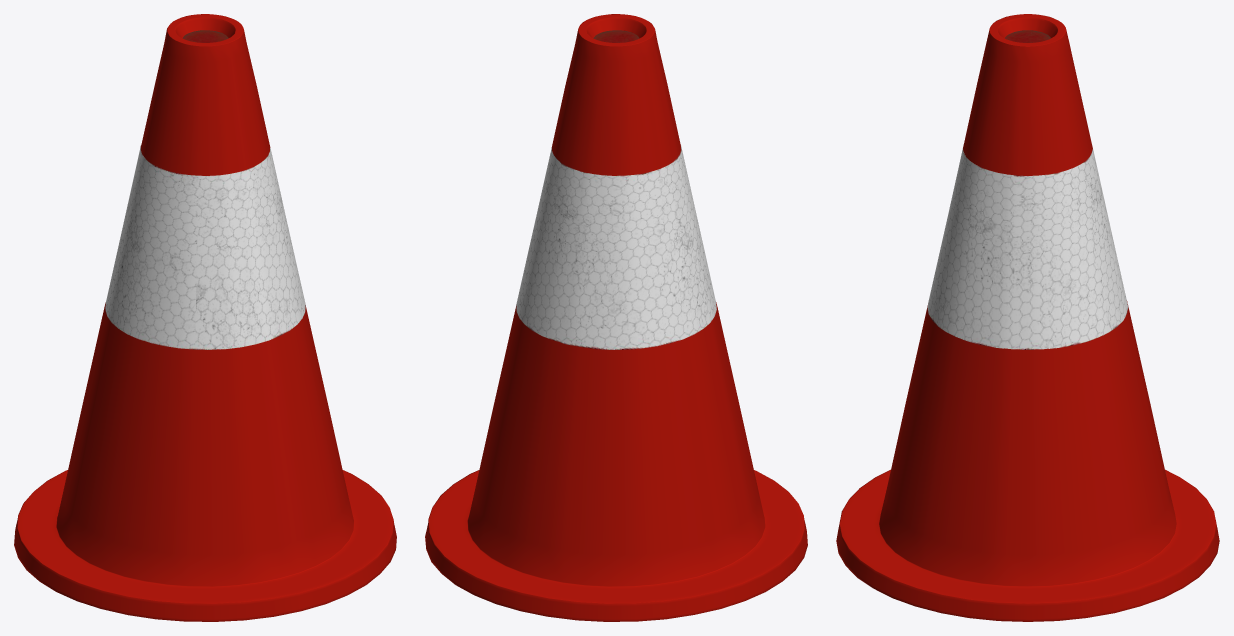
File: Traffic_Code.glb
3 views of the same model, side by side, from view 1: azimuth 30°, elevation 25°; view 2: azimuth 150°, elevation 25°; view 3: azimuth 270°, elevation 25° (orthographic).
Parts seen in each view (by area): view 1: zhuitong; view 2: zhuitong; view 3: zhuitong.
Boxes of the visible parts, x1=… form: zhuitong: x1=14, y1=14, x2=396, y2=621; zhuitong: x1=425, y1=14, x2=807, y2=621; zhuitong: x1=836, y1=14, x2=1219, y2=621.
Size of the model in its own units: 0.4973 by 0.731 by 0.4973.
Materials: 2 (1 with a texture image).
